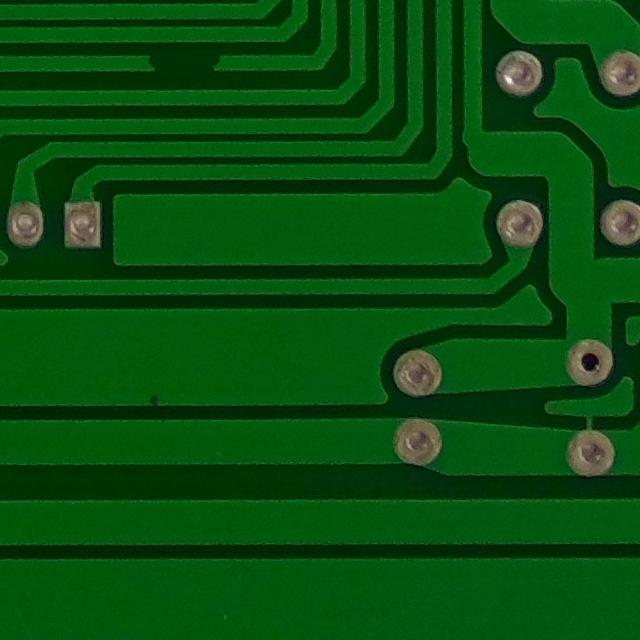open_circuit: (140, 45, 228, 83)
